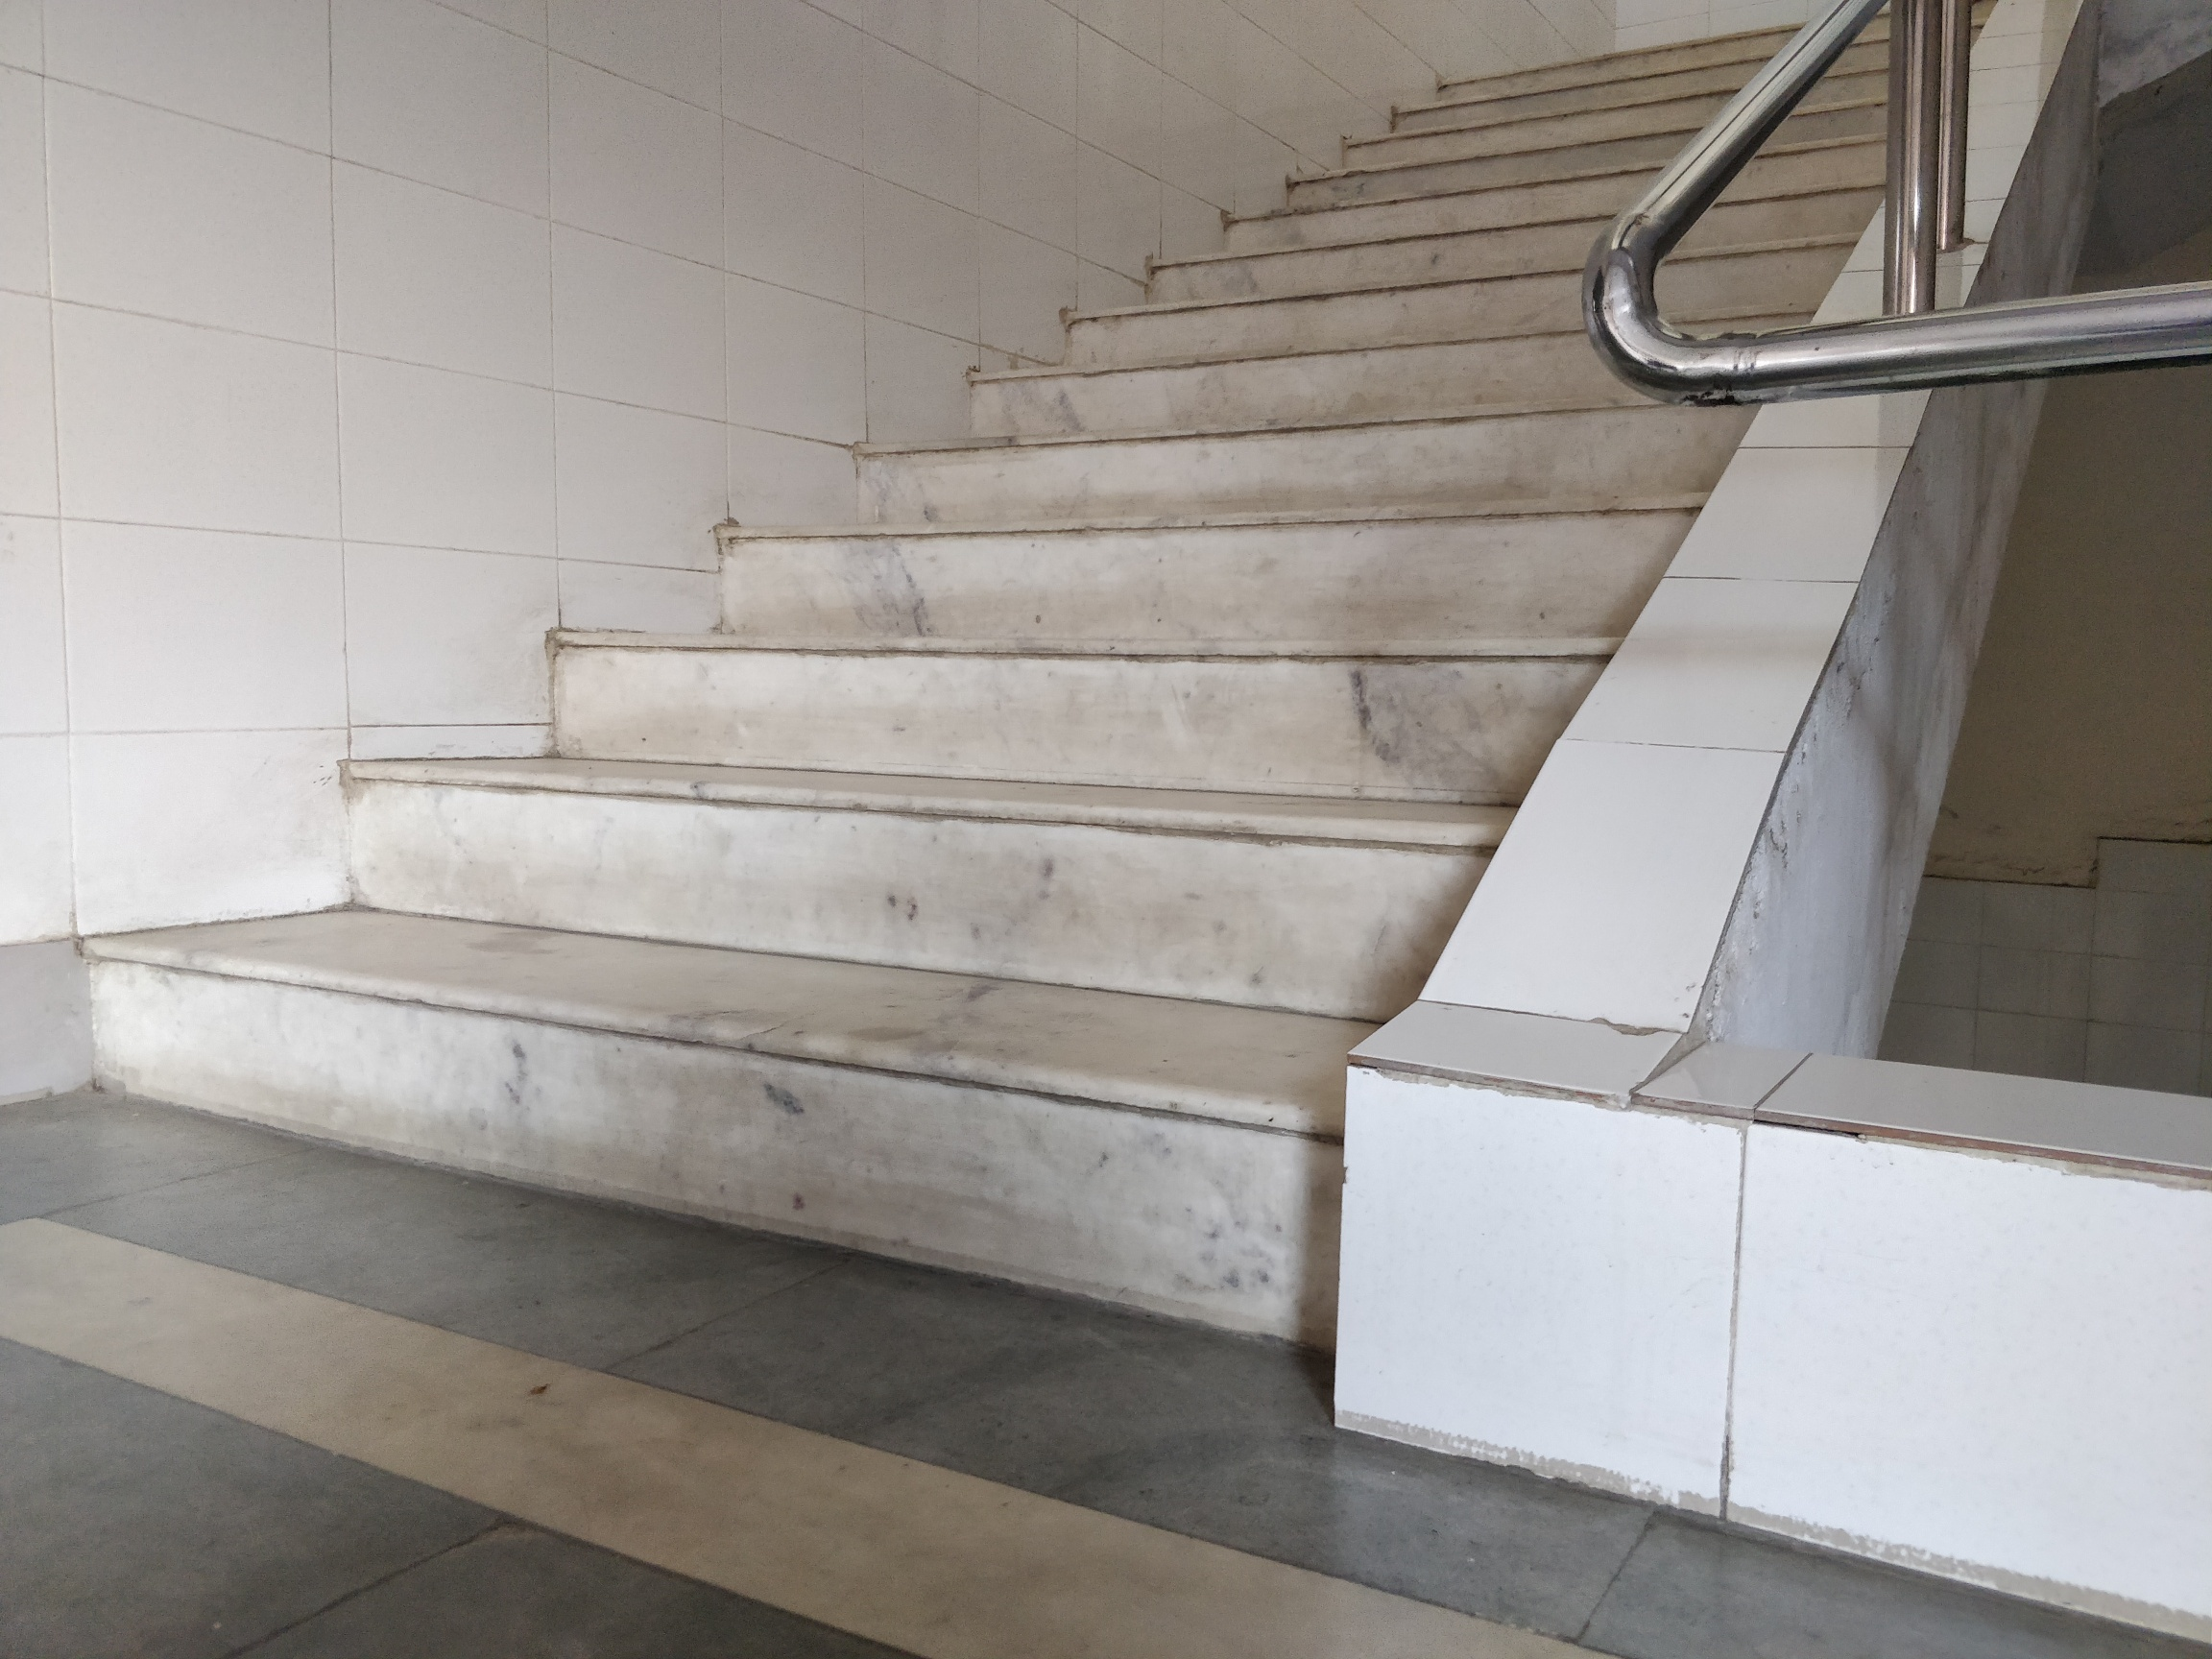stairs_up: (52, 10, 1893, 1373)
